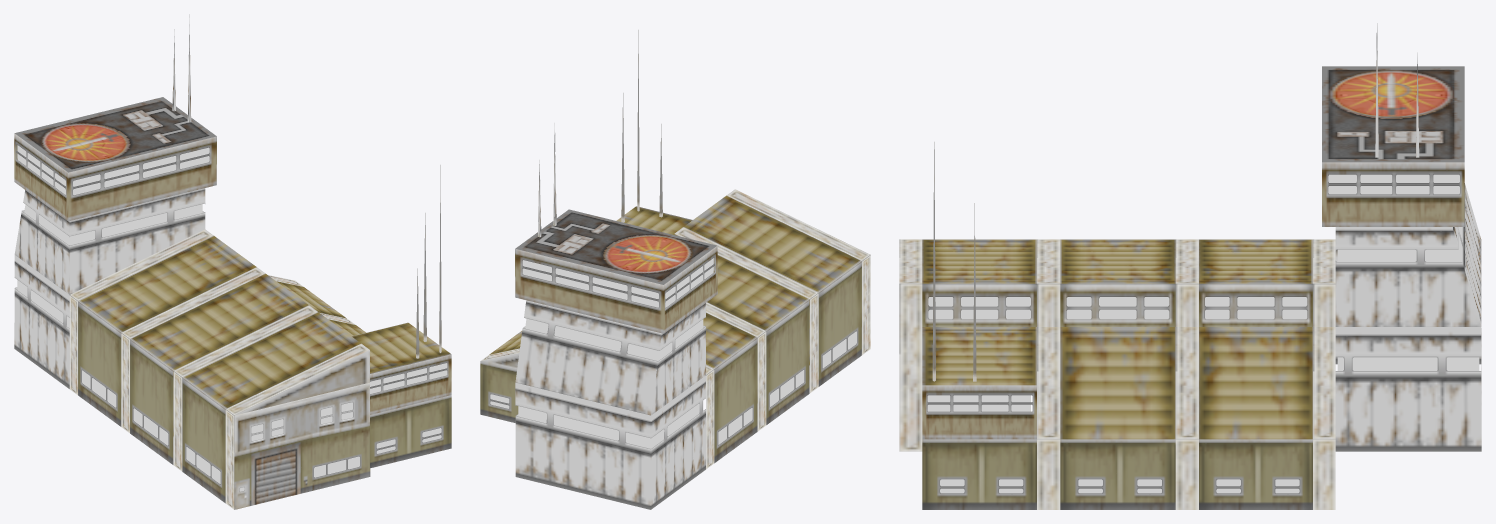
3 renders of one model, left to right at view 1: azimuth 30°, elevation 25°; view 2: azimuth 150°, elevation 25°; view 3: azimuth 270°, elevation 25°, orthographic. The views are drawn at different scales.
Parts seen in each view (by area): view 1: SensorControl, LitWin_DSenCon, LOS_antennae; view 2: SensorControl, LitWin_DSenCon, LOS_antennae; view 3: SensorControl, LitWin_DSenCon, LOS_antennae.
Boxes of the visible parts, x1=… form: SensorControl: x1=14, y1=97, x2=451, y2=509; LitWin_DSenCon: x1=17, y1=145, x2=447, y2=491; LOS_antennae: x1=172, y1=14, x2=441, y2=358; SensorControl: x1=480, y1=189, x2=870, y2=509; LitWin_DSenCon: x1=490, y1=258, x2=856, y2=448; LOS_antennae: x1=538, y1=30, x2=662, y2=237; SensorControl: x1=899, y1=66, x2=1481, y2=509; LitWin_DSenCon: x1=927, y1=174, x2=1479, y2=493; LOS_antennae: x1=932, y1=23, x2=1419, y2=381.
Size of the model in its own units: 19.35 by 26.34 by 31.75.
2 materials, 2 textured.
